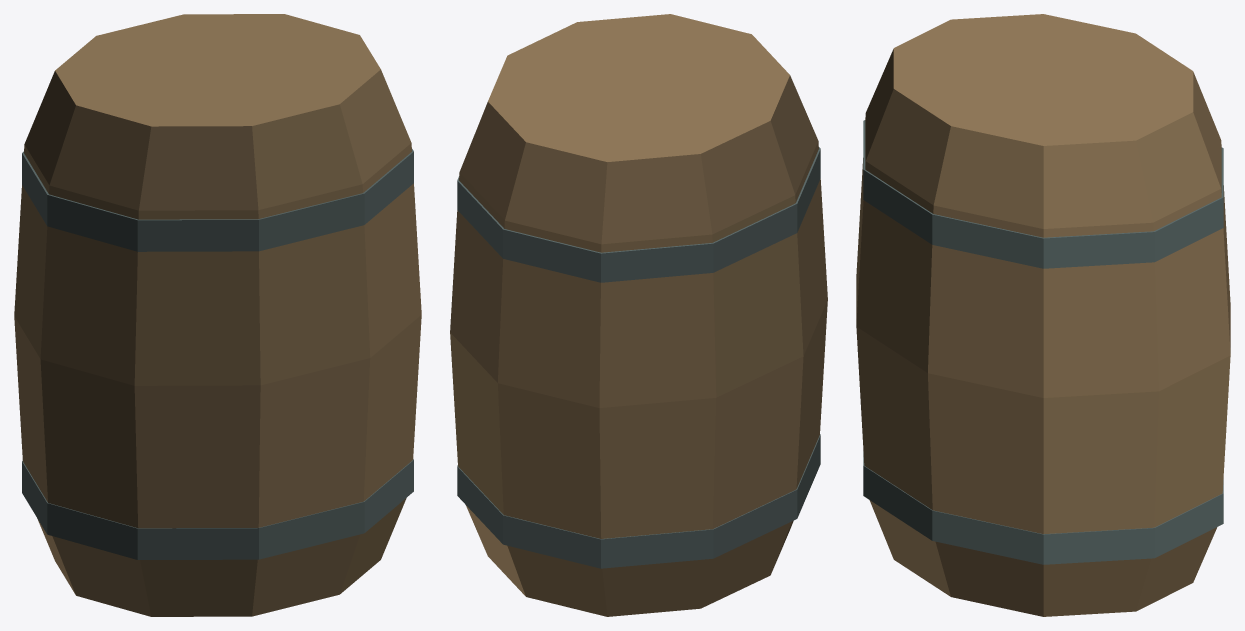
The picture shows the model from 3 angles, left to right: view 1: azimuth 30°, elevation 25°; view 2: azimuth 150°, elevation 25°; view 3: azimuth 270°, elevation 25°; orthographic projection. The views are drawn at different scales.
Visible parts, largest first — view 1: 2149140e22ef514830b3a51e98fc6600265479c585f8447a2e751bbdde39; view 2: 2149140e22ef514830b3a51e98fc6600265479c585f8447a2e751bbdde39; view 3: 2149140e22ef514830b3a51e98fc6600265479c585f8447a2e751bbdde39.
Part boxes in pixels (x1,y1,x2,y2): 2149140e22ef514830b3a51e98fc6600265479c585f8447a2e751bbdde39: [14, 14, 421, 616]; 2149140e22ef514830b3a51e98fc6600265479c585f8447a2e751bbdde39: [450, 14, 827, 616]; 2149140e22ef514830b3a51e98fc6600265479c585f8447a2e751bbdde39: [856, 14, 1230, 616].
Size of the model in its own units: 0.53 by 0.7347 by 0.5041.
Materials: 1 (1 with a texture image).
